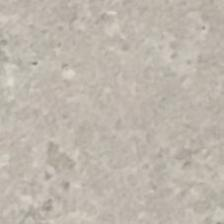Non_Crack: (13, 13, 218, 212)
